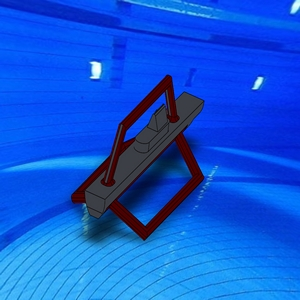submarine: (68, 66, 220, 245)
